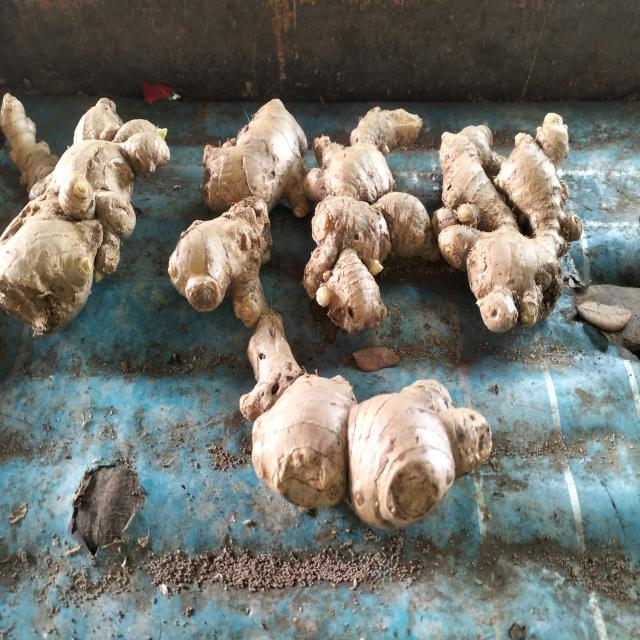ginger: (249, 317, 476, 554), (419, 98, 591, 350), (10, 57, 140, 318), (185, 84, 313, 311), (306, 115, 422, 325)
